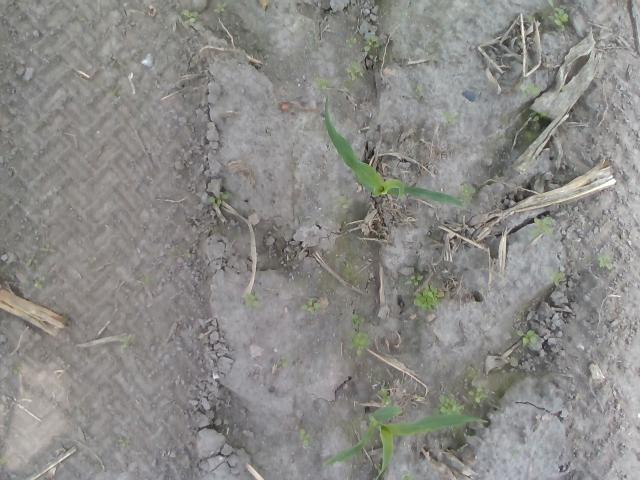Maize: (325, 99, 468, 212), (320, 402, 488, 480)
Weeds: (410, 286, 444, 312), (524, 216, 556, 239), (312, 76, 349, 93), (434, 398, 464, 418), (161, 245, 193, 262), (544, 10, 570, 29), (348, 333, 370, 353), (103, 82, 123, 103), (101, 54, 124, 71), (296, 430, 312, 453), (300, 300, 322, 316), (518, 330, 538, 347), (518, 81, 540, 96), (438, 110, 459, 125), (244, 292, 261, 310), (470, 388, 488, 405), (344, 64, 364, 78), (378, 386, 392, 406), (117, 335, 134, 351), (551, 271, 566, 288), (366, 36, 381, 52), (181, 10, 198, 24), (336, 195, 354, 208), (209, 194, 229, 205), (405, 276, 425, 286), (460, 184, 474, 198), (597, 254, 611, 268), (272, 357, 288, 369), (396, 468, 414, 478), (213, 1, 227, 13), (32, 276, 44, 289), (26, 254, 38, 266), (140, 274, 153, 285), (352, 315, 362, 329), (40, 244, 56, 252), (508, 356, 518, 368), (10, 365, 20, 376), (120, 437, 132, 446), (346, 37, 356, 46)
